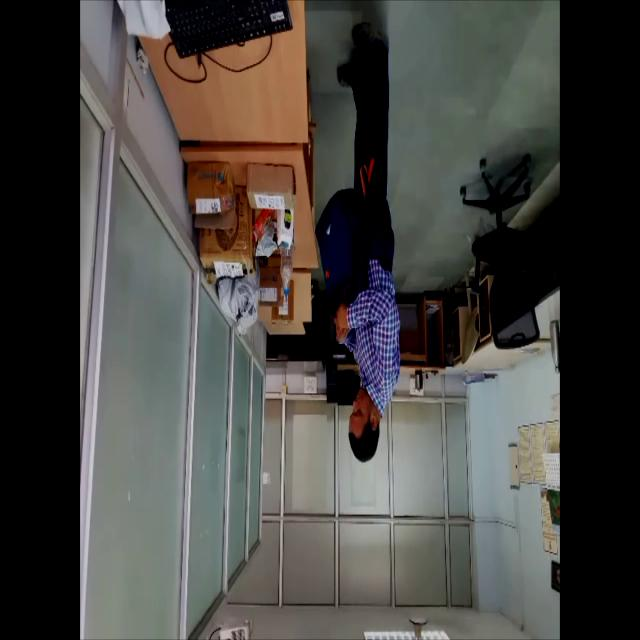shoplifting: (308, 6, 413, 467)
